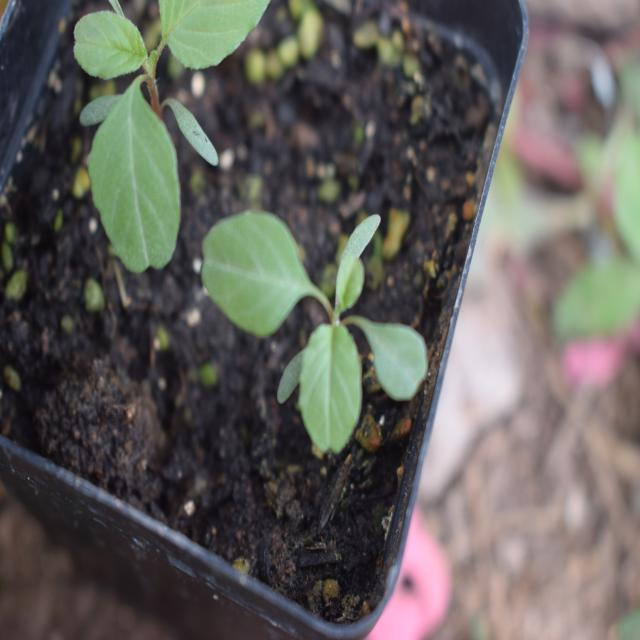pigweed: (200, 178, 434, 442), (68, 0, 273, 277)
